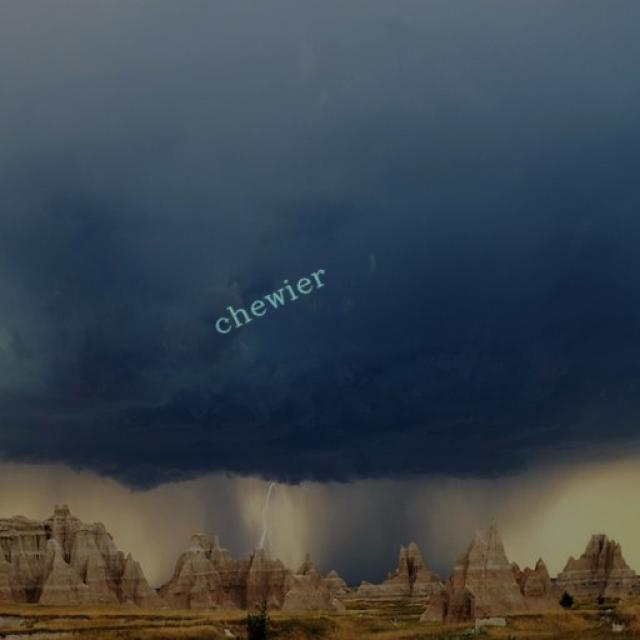watermark: (210, 257, 330, 340)
